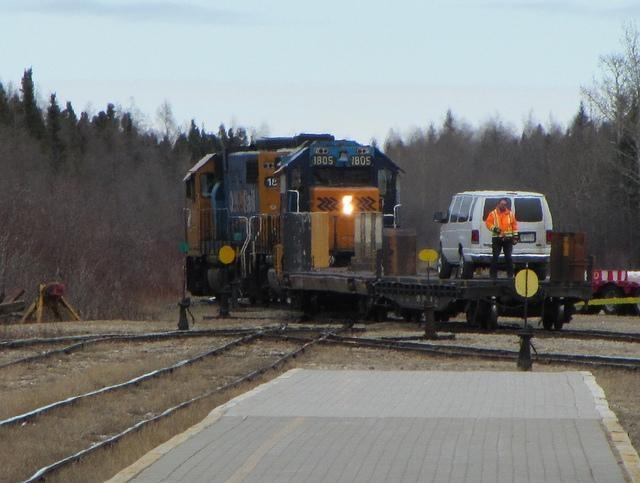car: (434, 189, 554, 280)
truck: (576, 270, 640, 315)
